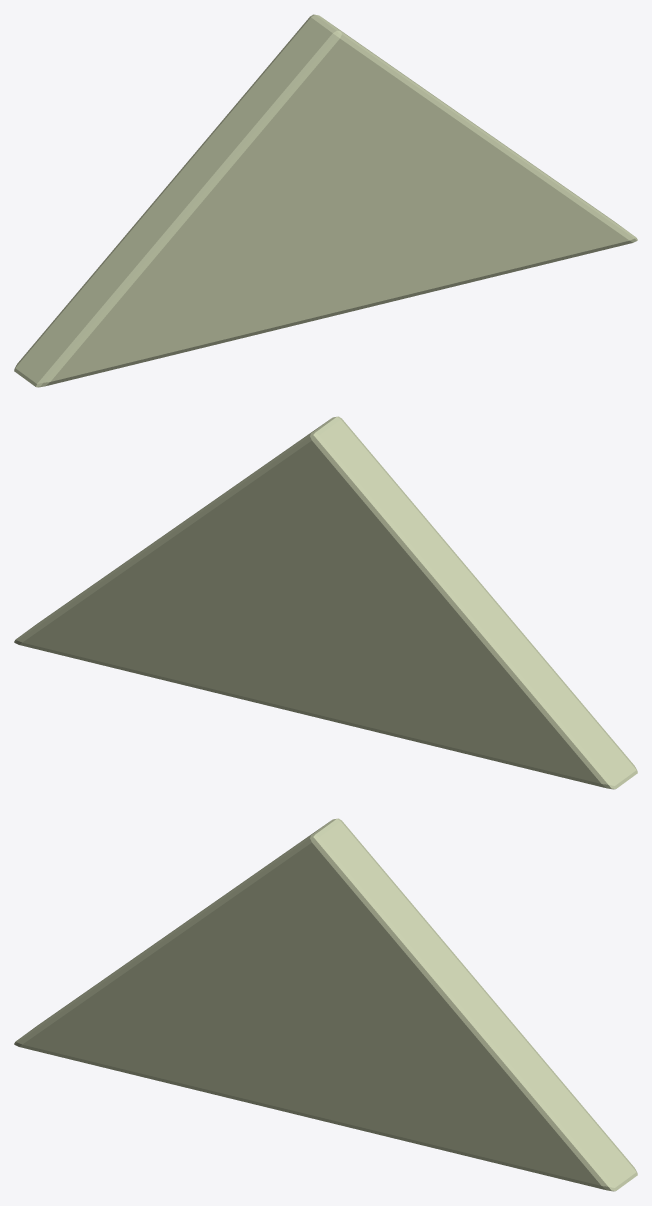
File: gable_end_2m__finish.glb
3 views of the same model, one above another, from view 1: azimuth 30°, elevation 25°; view 2: azimuth 150°, elevation 25°; view 3: azimuth 330°, elevation 25° (orthographic).
Parts seen in each view (by area): view 1: gable_end_2m__finish__mesh_00; view 2: gable_end_2m__finish__mesh_00; view 3: gable_end_2m__finish__mesh_00.
Part boxes in pixels (x1,y1,x2,y2): gable_end_2m__finish__mesh_00: (14,14,637,387); gable_end_2m__finish__mesh_00: (14,416,637,789); gable_end_2m__finish__mesh_00: (14,818,637,1191).
Size of the model in its own units: 1.98 by 0.893 by 0.16.
